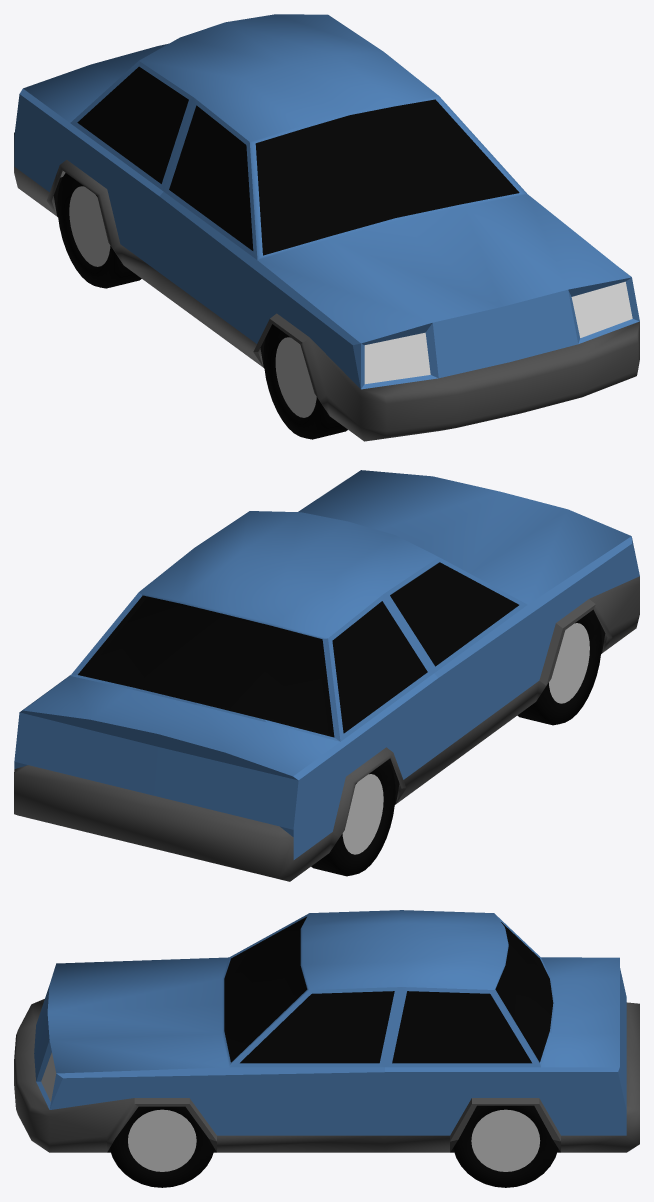
File: lightbluecar.glb
The picture shows the model from 3 angles, top to bottom: view 1: azimuth 30°, elevation 25°; view 2: azimuth 150°, elevation 25°; view 3: azimuth 270°, elevation 25°; orthographic projection. The views are drawn at different scales.
Parts seen in each view (by area): view 1: Car.001, Car; view 2: Car.001, Car; view 3: Car.001, Car.
Boxes of the visible parts, left/top/right/bottom form: Car.001: left=14, top=14, right=639, bottom=389; Car: left=14, top=66, right=639, bottom=441; Car.001: left=14, top=470, right=639, bottom=859; Car: left=14, top=562, right=639, bottom=881; Car.001: left=34, top=910, right=626, bottom=1135; Car: left=14, top=917, right=639, bottom=1187.
Bounding box in the file's own units: 2.1 × 1.59 × 4.66.
